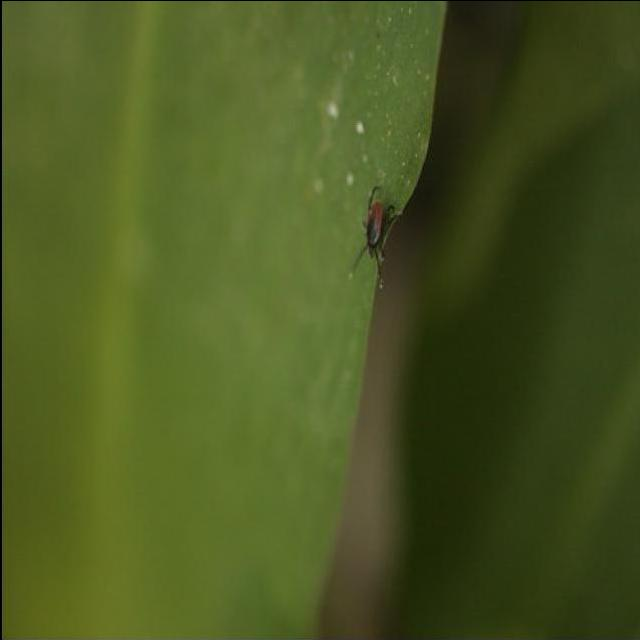Ixodes Ricinus-F: (353, 186, 397, 271)
